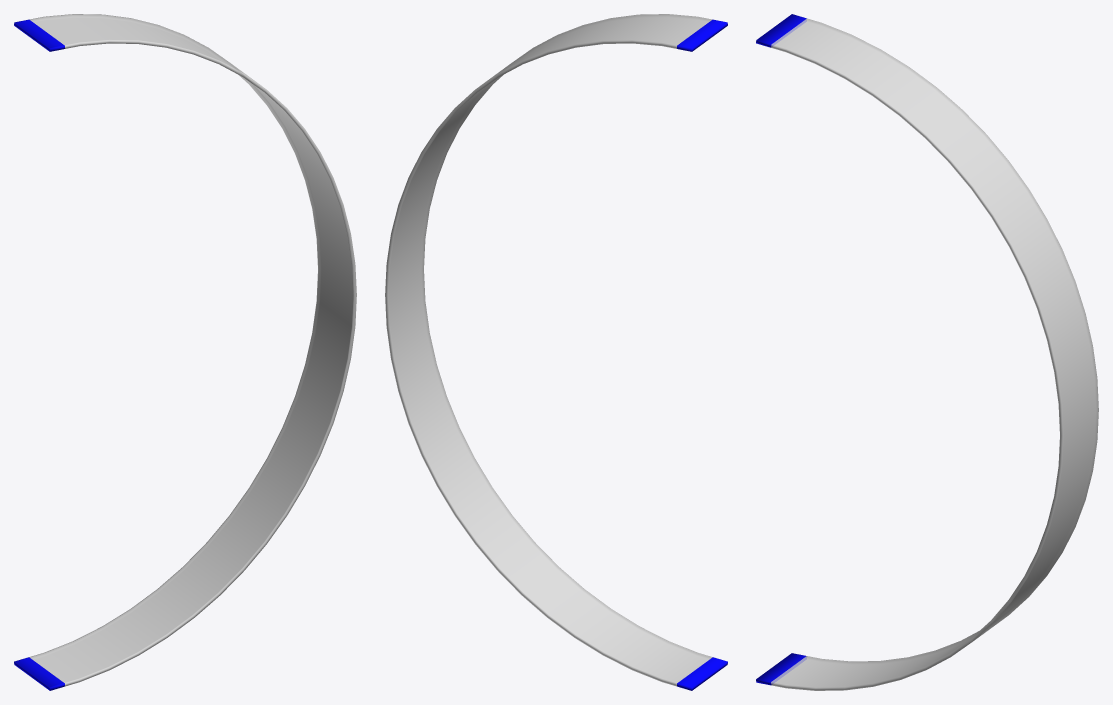
File: LongNote08.fbx
3 views of the same model, side by side, from view 1: azimuth 30°, elevation 25°; view 2: azimuth 150°, elevation 25°; view 3: azimuth 330°, elevation 25° (orthographic).
Visible parts, largest first — view 1: LongNote08; view 2: LongNote08; view 3: LongNote08.
Boxes of the visible parts, x1,y1,x2,y2 form: LongNote08: (14,14,356,690); LongNote08: (385,14,727,690); LongNote08: (756,14,1098,690).
Size of the model in its own units: 99.05 by 20 by 198.
